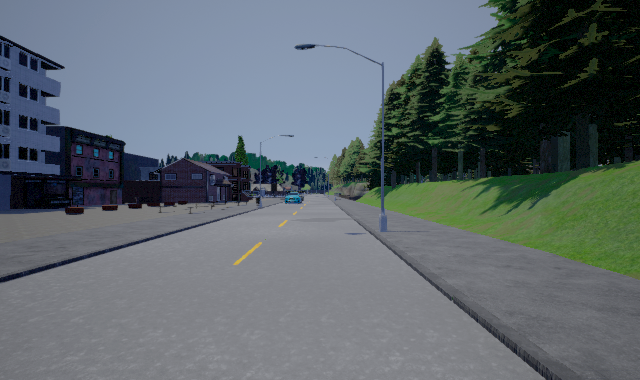vehicle: (284, 191, 302, 203)
